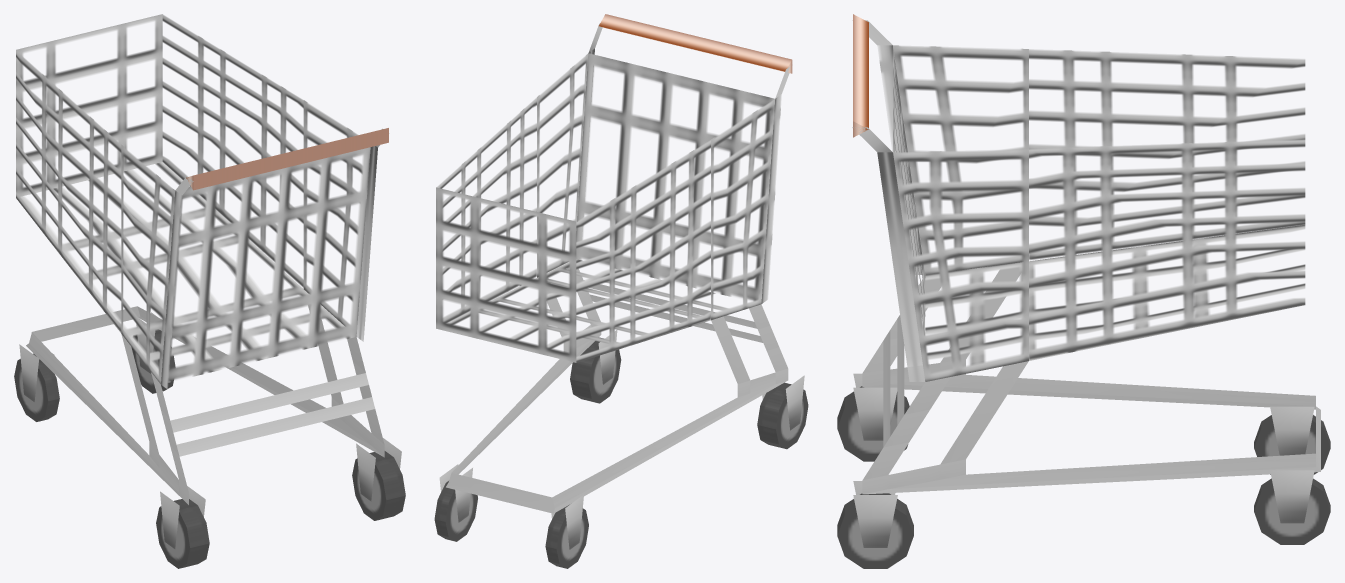
The picture shows the model from 3 angles, left to right: view 1: azimuth 30°, elevation 25°; view 2: azimuth 150°, elevation 25°; view 3: azimuth 270°, elevation 25°; orthographic projection. The views are drawn at different scales.
Size of the model in its own units: 113 by 193 by 195.
Materials: 1 (1 with a texture image).
